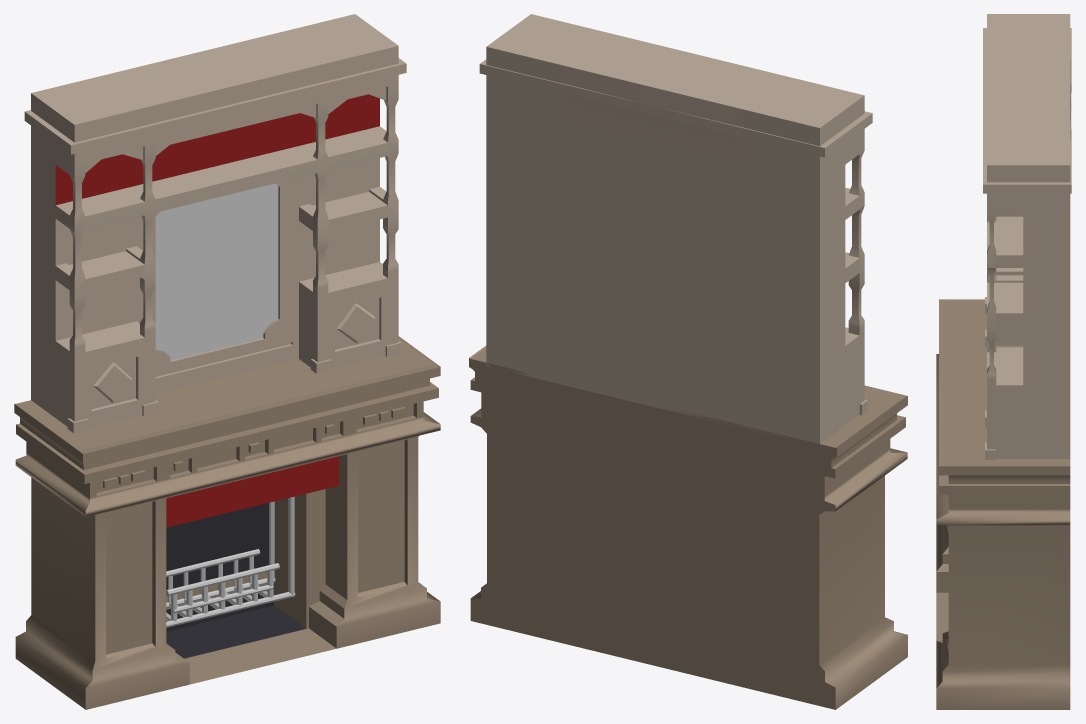
File: Mantle Piece1Unfinished.fbx
3 views of the same model, side by side, from view 1: azimuth 30°, elevation 25°; view 2: azimuth 150°, elevation 25°; view 3: azimuth 270°, elevation 25° (orthographic). The views are drawn at different scales.
Parts seen in each view (by area): view 1: Mirror, Mantle, pCylinder4, pCylinder1, pCylinder3; view 2: Mirror, Mantle; view 3: Mantle, Mirror.
Part boxes in pixels (x1=…): Mirror: x1=24, y1=14, x2=406, y2=433; Mantle: x1=14, y1=336, x2=440, y2=709; pCylinder4: x1=166, y1=592, x2=295, y2=627; pCylinder1: x1=166, y1=563, x2=279, y2=595; pCylinder3: x1=288, y1=496, x2=294, y2=596; Mirror: x1=479, y1=14, x2=872, y2=443; Mantle: x1=469, y1=345, x2=907, y2=709; Mantle: x1=936, y1=299, x2=1070, y2=709; Mirror: x1=983, y1=14, x2=1071, y2=459.
Size of the model in its own units: 2.58 by 3.87 by 0.8839.
